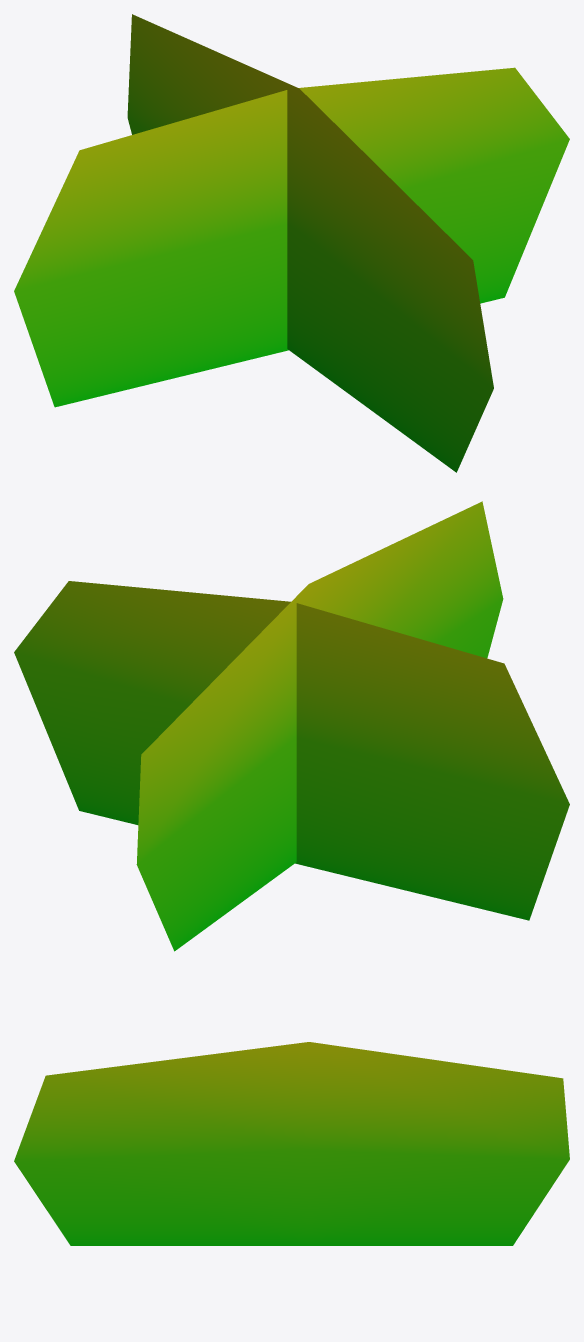
File: Lingonberry_LOD5_Var14.fbx
The picture shows the model from 3 angles, top to bottom: view 1: azimuth 30°, elevation 25°; view 2: azimuth 150°, elevation 25°; view 3: azimuth 270°, elevation 25°; orthographic projection. The views are drawn at different scales.
Visible parts, largest first — view 1: _ww1z_Var14_LOD5; view 2: _ww1z_Var14_LOD5; view 3: _ww1z_Var14_LOD5.
Part boxes in pixels (bbox=[...]): _ww1z_Var14_LOD5: bbox=[14, 14, 569, 472]; _ww1z_Var14_LOD5: bbox=[14, 501, 569, 951]; _ww1z_Var14_LOD5: bbox=[14, 1042, 569, 1245].
Size of the model in its own units: 40.85 by 19.03 by 46.65.
